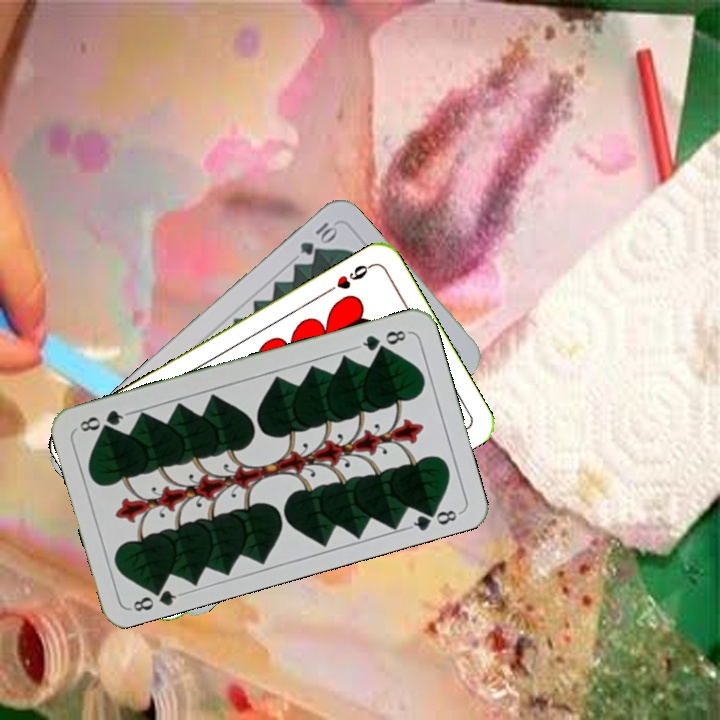G10: (296, 218, 341, 258)
G8: (127, 580, 185, 615), (354, 326, 412, 354)
H9: (322, 259, 375, 296)
